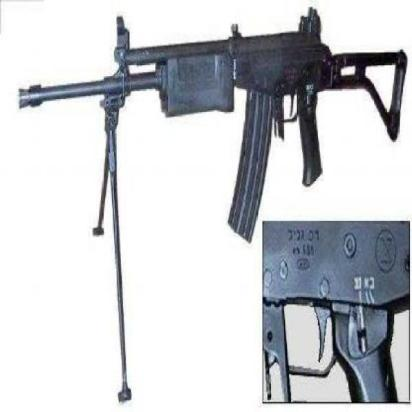Gun: (11, 13, 412, 210)
